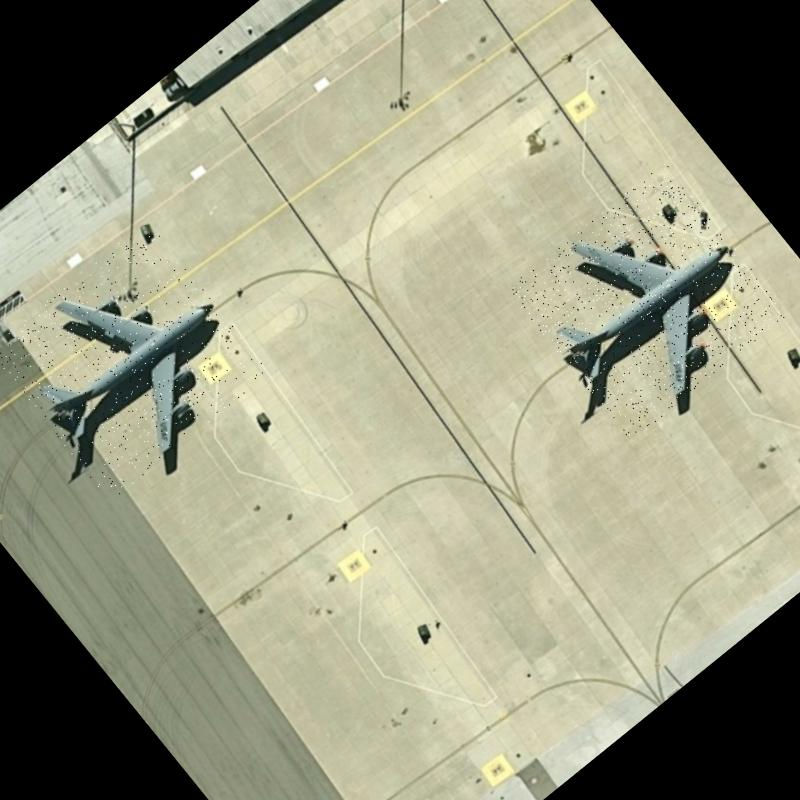A14: (506, 160, 788, 442), (0, 219, 270, 501)
